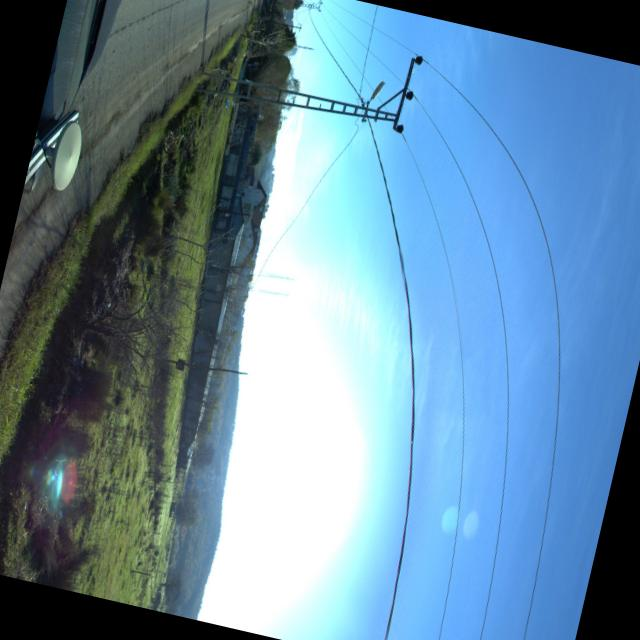Utility Pole Information Plate: (277, 85, 284, 90)
